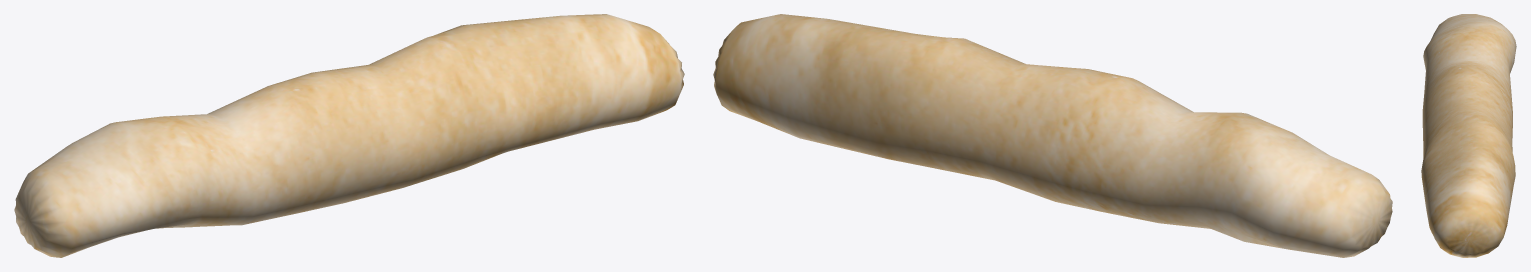
File: RollDough.fbx
3 renders of one model, left to right at view 1: azimuth 30°, elevation 25°; view 2: azimuth 150°, elevation 25°; view 3: azimuth 270°, elevation 25°, orthographic. The views are drawn at different scales.
Parts seen in each view (by area): view 1: pCylinder68; view 2: pCylinder68; view 3: pCylinder68.
Boxes of the visible parts, x1,y1,x2,y2 form: pCylinder68: [14, 14, 684, 257]; pCylinder68: [713, 14, 1392, 257]; pCylinder68: [1421, 14, 1516, 257].
Bounding box in the file's own units: 20.78 × 3.93 × 4.03.
Materials: 1 (1 with a texture image).
